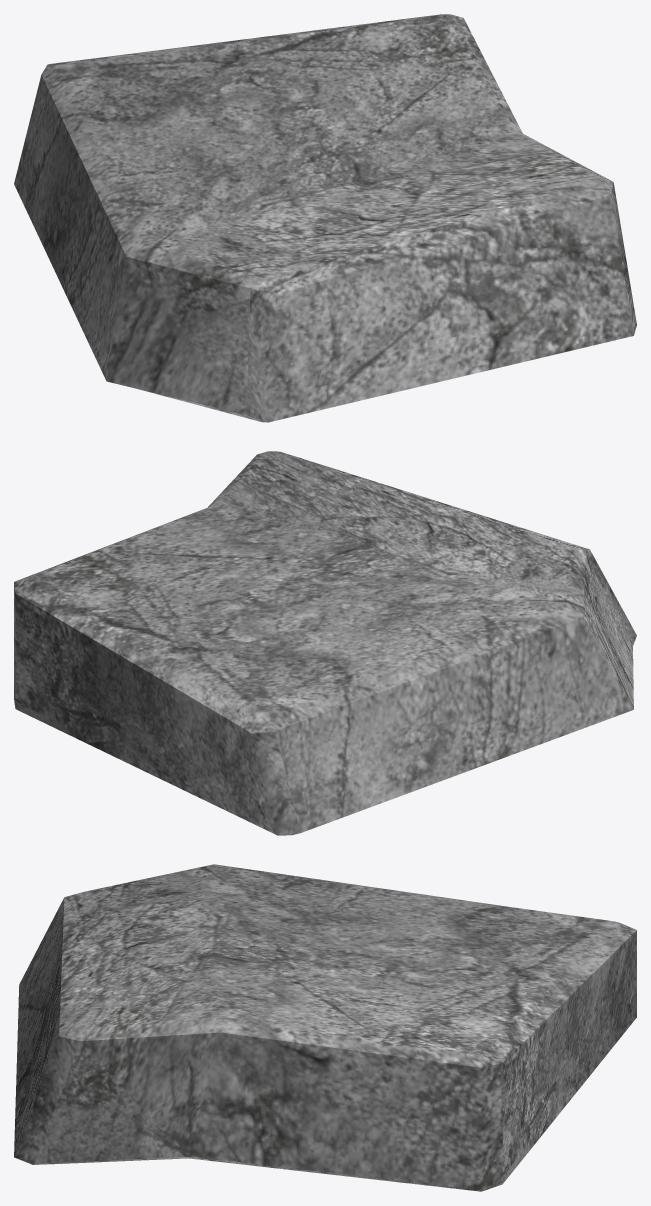
File: materials_3_rubble_4.fbx
The picture shows the model from 3 angles, top to bottom: view 1: azimuth 30°, elevation 25°; view 2: azimuth 150°, elevation 25°; view 3: azimuth 270°, elevation 25°; orthographic projection. The views are drawn at different scales.
Parts seen in each view (by area): view 1: materials_3_rubble_4; view 2: materials_3_rubble_4; view 3: materials_3_rubble_4.
Boxes of the visible parts, x1=… form: materials_3_rubble_4: x1=14, y1=14, x2=636, y2=422; materials_3_rubble_4: x1=14, y1=451, x2=636, y2=835; materials_3_rubble_4: x1=14, y1=864, x2=636, y2=1191.
Bounding box in the file's own units: 54.26 × 14.15 × 58.68.
